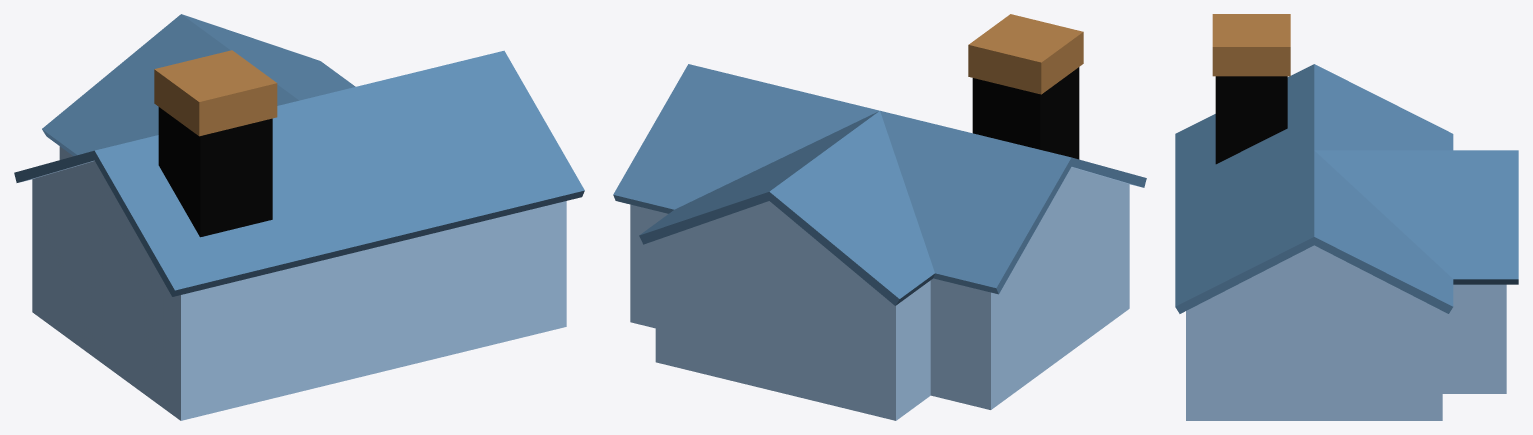
Rendered from Map-House-T-Lv2-B.fbx.
3 views of the same model, side by side, from view 1: azimuth 30°, elevation 25°; view 2: azimuth 150°, elevation 25°; view 3: azimuth 270°, elevation 25° (orthographic). The views are drawn at different scales.
Visible parts, largest first — view 1: Map-House-T-Lv2-B; view 2: Map-House-T-Lv2-B; view 3: Map-House-T-Lv2-B.
Part boxes in pixels (<box>): Map-House-T-Lv2-B: <box>14,14,584,420</box>; Map-House-T-Lv2-B: <box>613,14,1146,420</box>; Map-House-T-Lv2-B: <box>1175,14,1518,420</box>.
Bounding box in the file's own units: 1.91 × 1.33 × 1.6.
